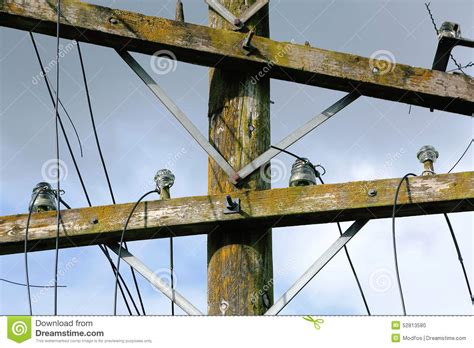pole: (4, 1, 472, 312)
